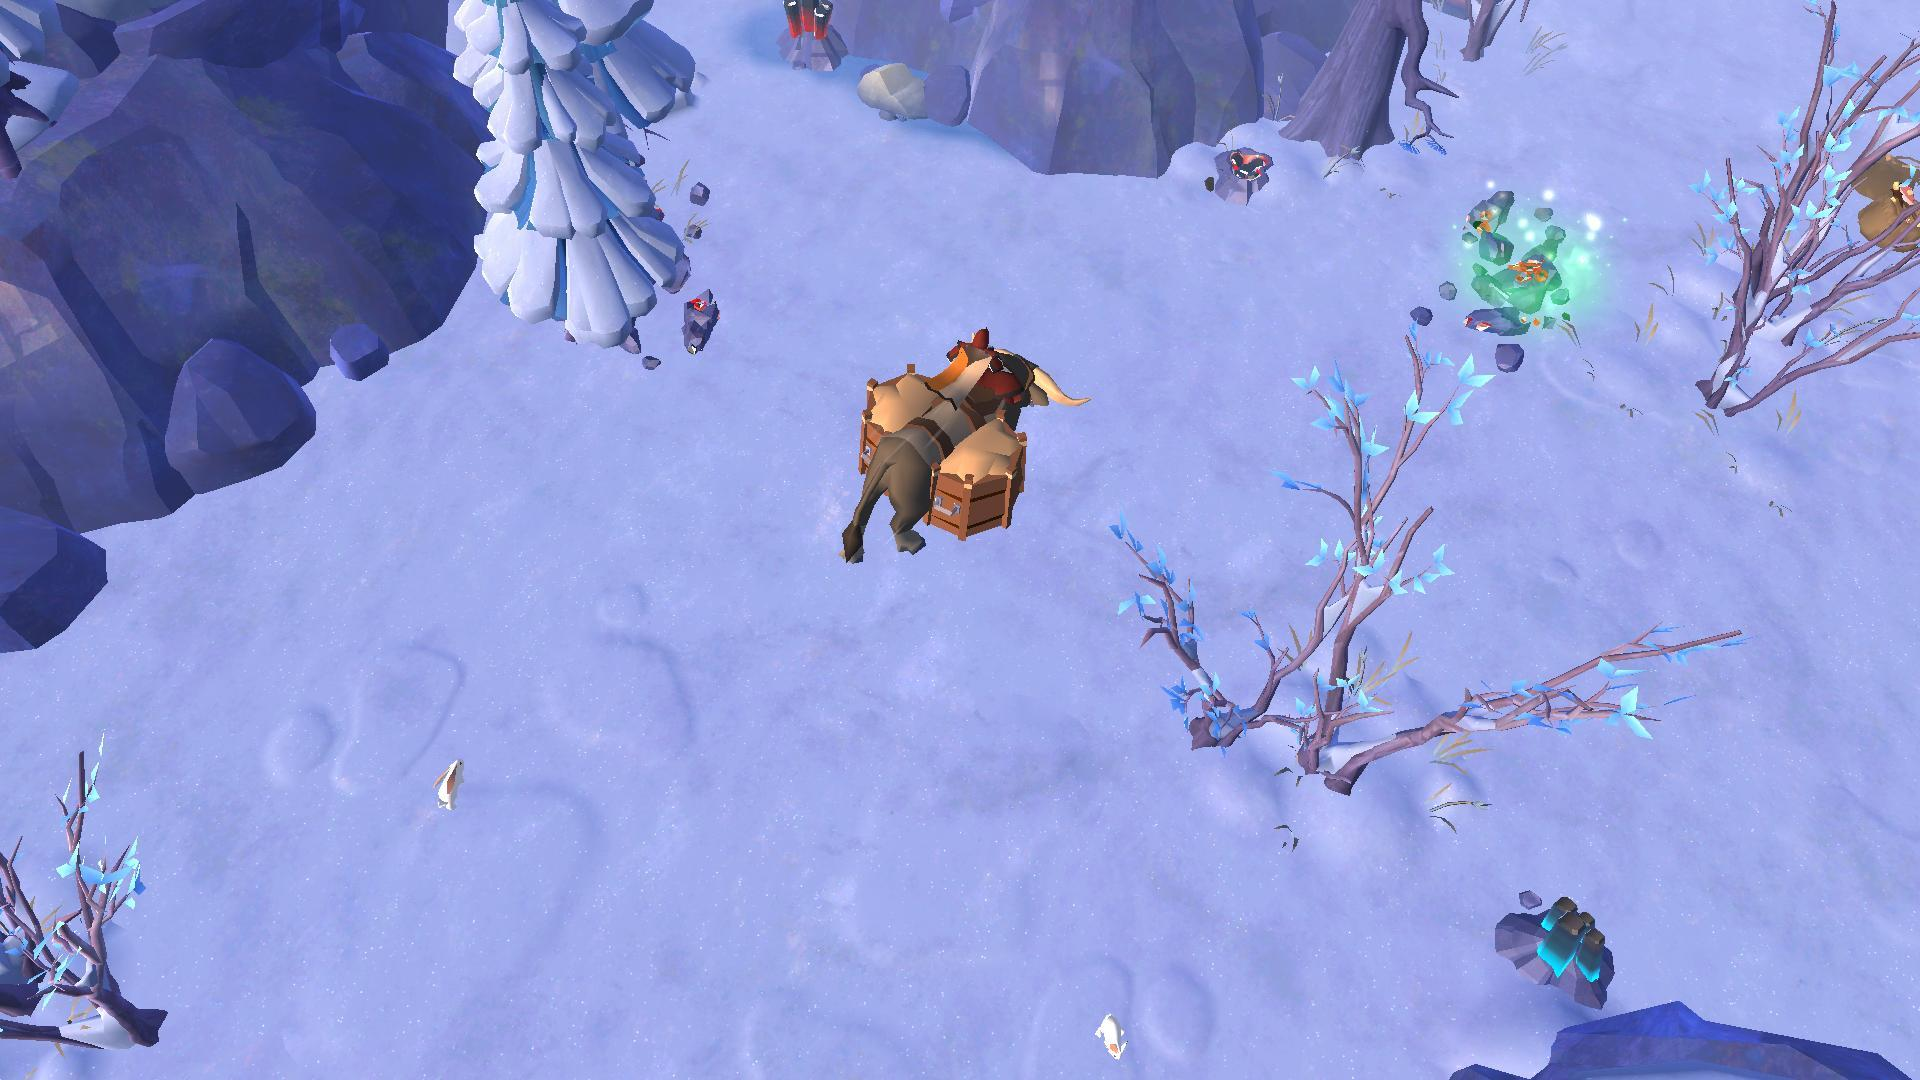ore_t4: (1528, 893, 1614, 985)
ore_t5: (775, 0, 843, 44)
